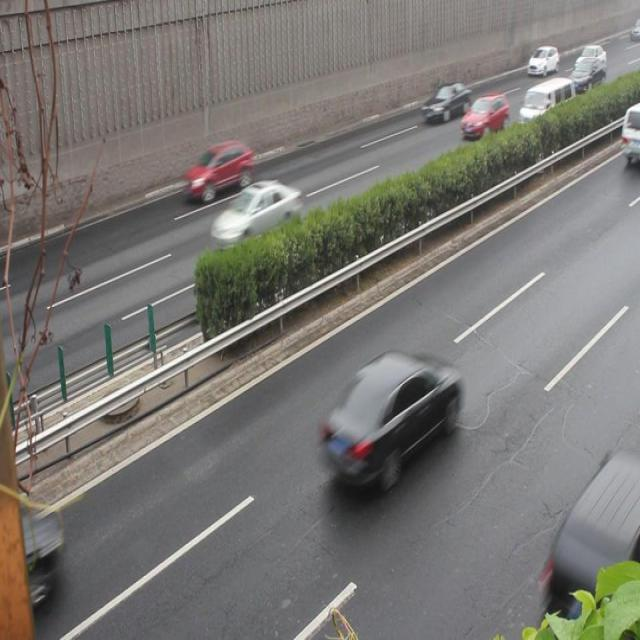car: (316, 346, 458, 490), (208, 177, 298, 250), (179, 137, 252, 204), (457, 91, 507, 135), (420, 80, 468, 121), (523, 44, 557, 75)
